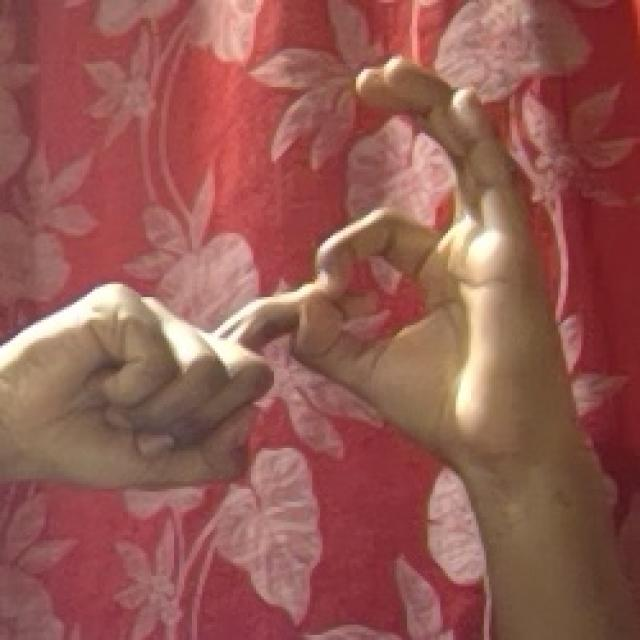Alphabet-Q: (33, 45, 573, 517)
